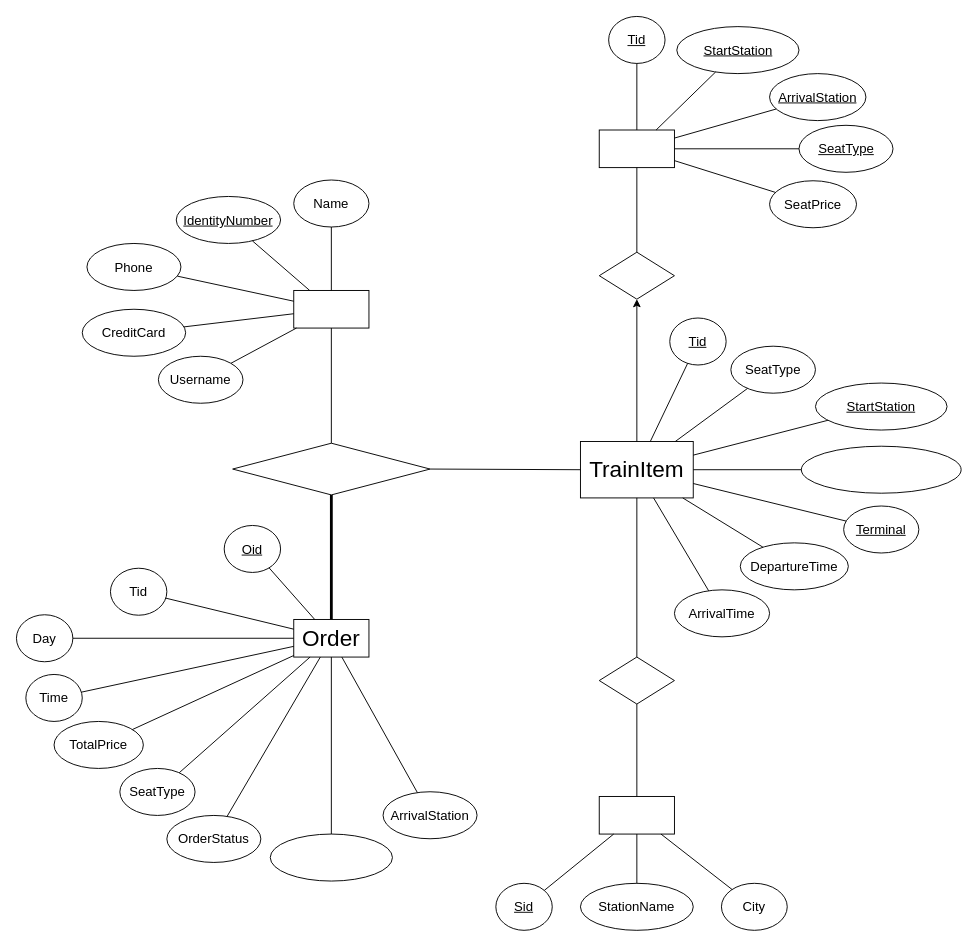
The diagram is 978 pixels wide and 948 high, and some of its shapes have lost their labels. Here are the shapes that lost their labels. From the top down, the centre of each, then its label:
At [636,148]: "Price".
At [636,275]: "Contain".
At [331,309]: "User".
At [331,468]: "Book/Query".
At [880,469]: "IntermediateStation".
At [636,680]: "Park".
At [636,815]: "Station".
At [330,857]: "DepartureStation".
